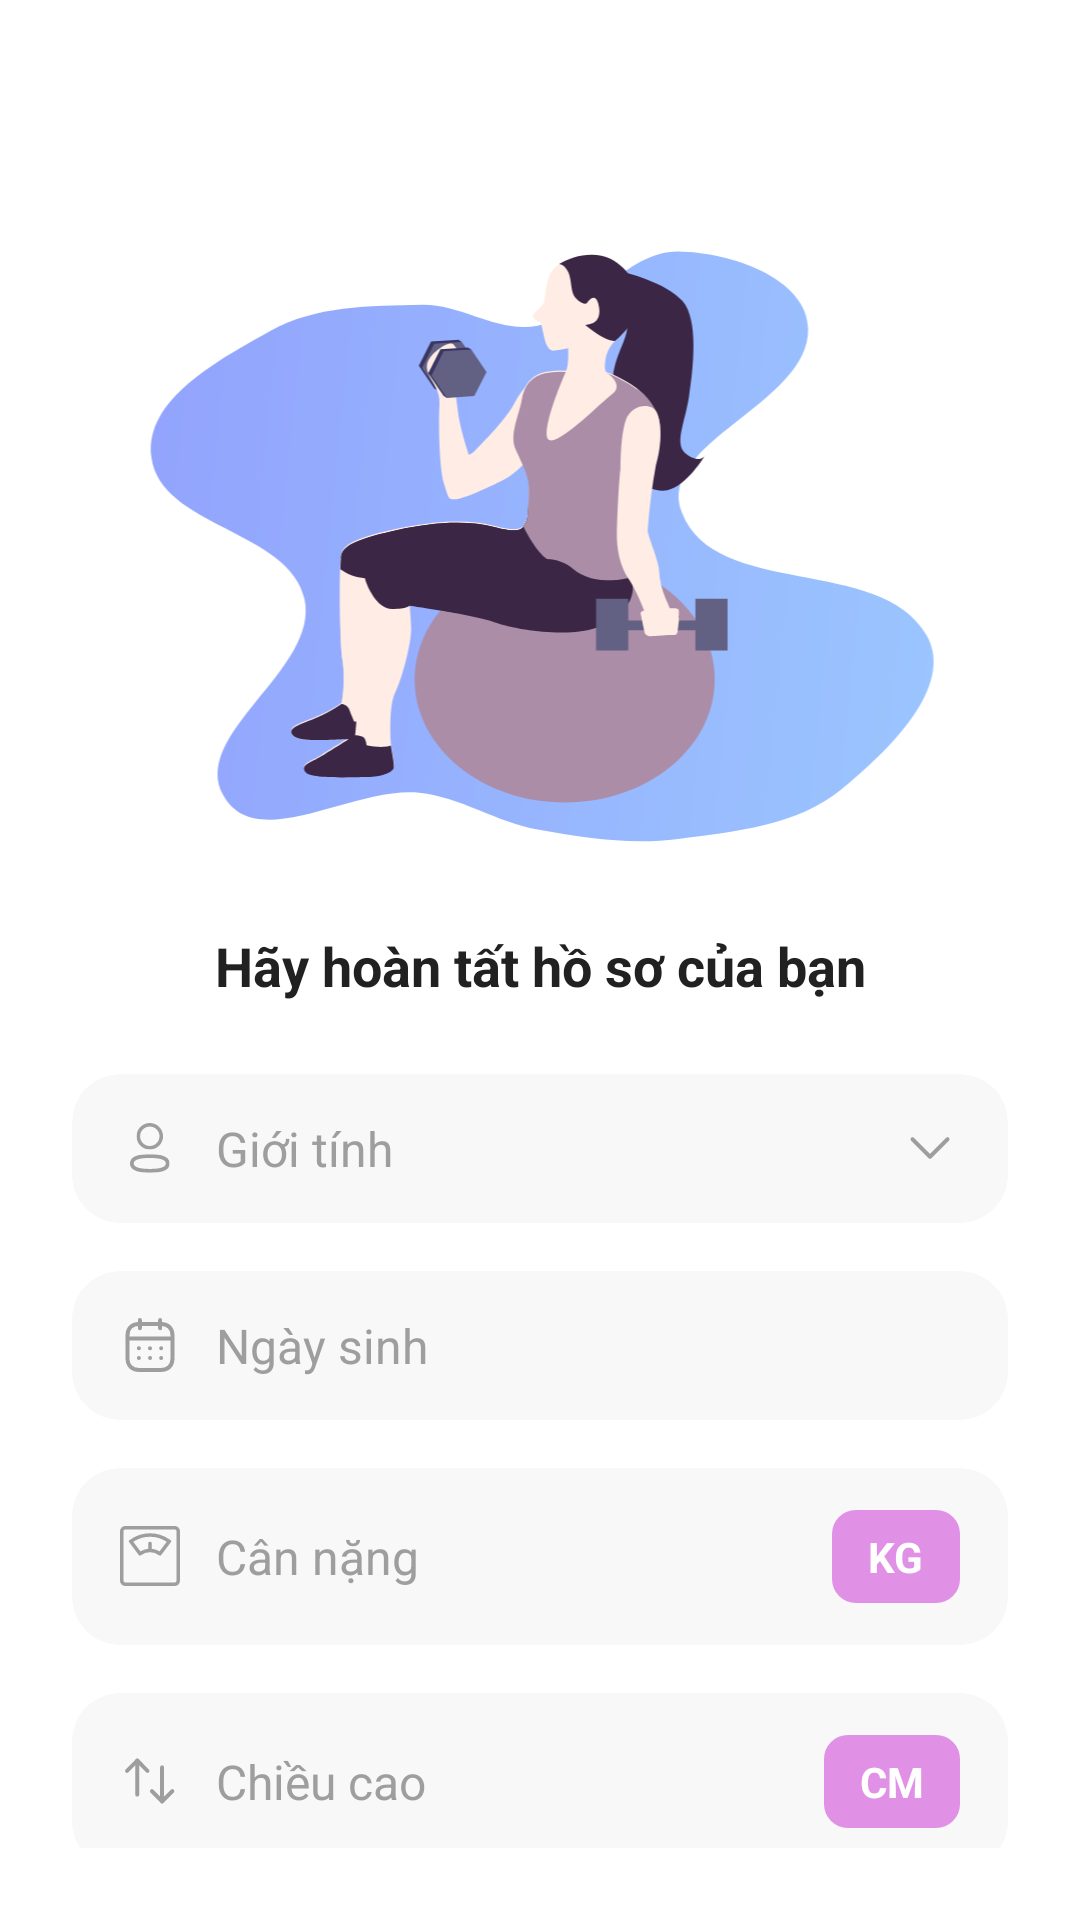

Icons on this 1080×1920 Android screen, each with its box as (x1, y1, x2, y2):
arrow down: (910, 1137, 950, 1159)
calendar: (125, 1318, 175, 1372)
person: (130, 1123, 170, 1173)
swap: (125, 1758, 174, 1804)
weight: (120, 1526, 180, 1586)
